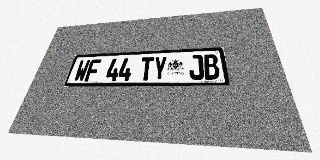4: (105, 58, 121, 81), (117, 58, 133, 81)
B: (203, 54, 220, 80)
F: (84, 59, 102, 81)
J: (189, 55, 204, 80)
T: (139, 57, 154, 81)
W: (73, 60, 91, 82)
Y: (152, 56, 167, 80)
